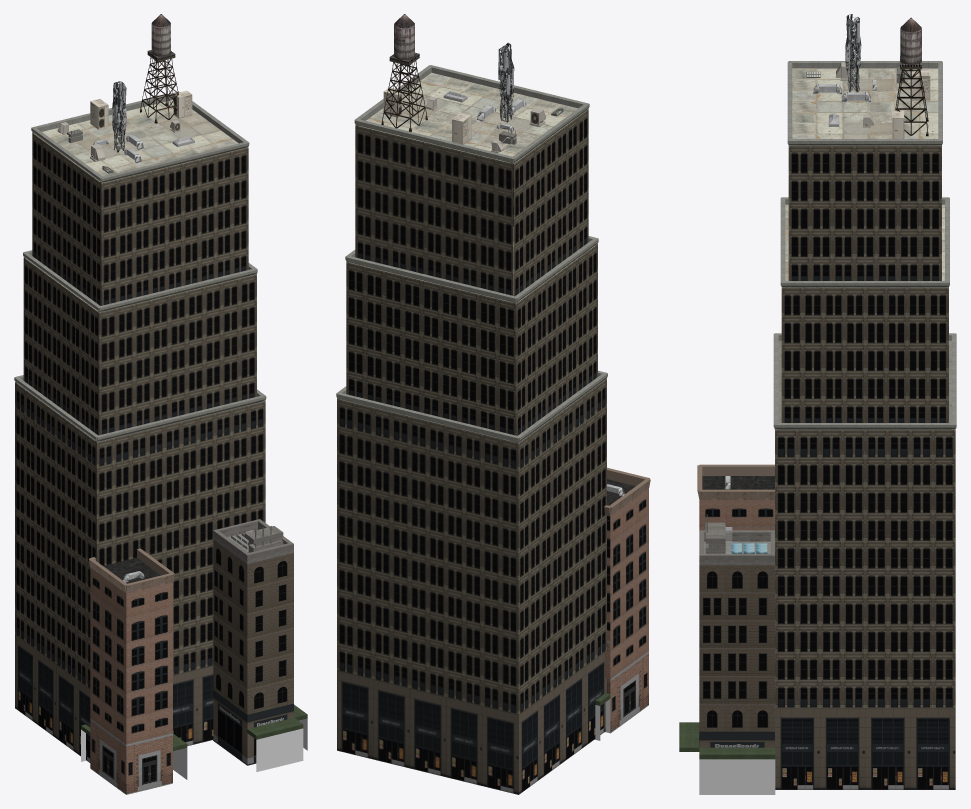
The model's file is building8.gltf.
3 views of the same model, side by side, from view 1: azimuth 30°, elevation 25°; view 2: azimuth 150°, elevation 25°; view 3: azimuth 270°, elevation 25° (orthographic). The views are drawn at different scales.
Parts seen in each view (by area): view 1: Object_122.005, Object_107.001, Object_95.005, Object_81.016; view 2: Object_122.005, Object_107.001, Object_95.005, Object_79.003; view 3: Object_122.005, Object_107.001, Object_95.005, Object_81.016, Object_79.003.
Part boxes in pixels (<box>): Object_122.005: <box>14,91,307,794</box>; Object_107.001: <box>140,14,178,123</box>; Object_95.005: <box>112,81,126,152</box>; Object_81.016: <box>244,526,283,552</box>; Object_122.005: <box>336,65,650,794</box>; Object_107.001: <box>381,14,427,131</box>; Object_95.005: <box>498,42,514,122</box>; Object_79.003: <box>452,112,471,144</box>; Object_122.005: <box>679,61,956,794</box>; Object_107.001: <box>895,17,928,136</box>; Object_95.005: <box>845,14,861,92</box>; Object_81.016: <box>705,514,732,553</box>; Object_79.003: <box>912,70,930,100</box>.
Size of the model in its own units: 33.9 by 120 by 40.35.
21 materials, 16 textured.
